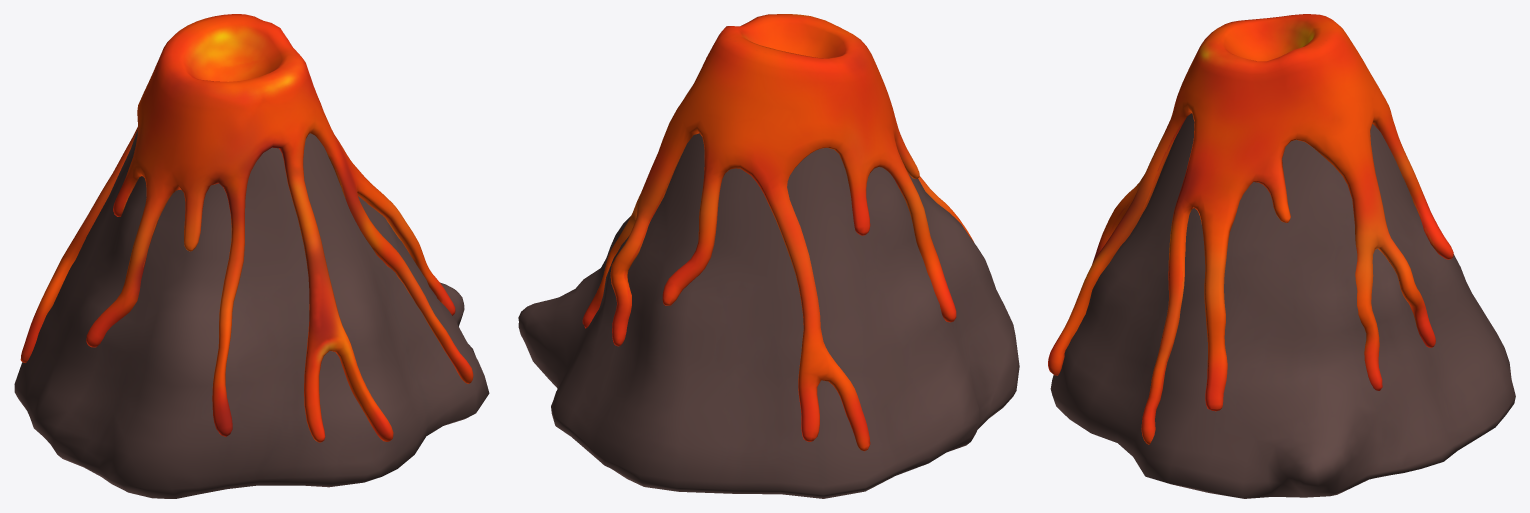
Rendered from volcano.glb.
3 views of the same model, side by side, from view 1: azimuth 30°, elevation 25°; view 2: azimuth 150°, elevation 25°; view 3: azimuth 270°, elevation 25° (orthographic).
Visible parts, largest first — view 1: node_id192; view 2: node_id192; view 3: node_id192.
Part boxes in pixels (x1,y1,x2,y2): node_id192: [14, 14, 489, 498]; node_id192: [518, 14, 1019, 498]; node_id192: [1048, 14, 1515, 498].
Size of the model in its own units: 0.6495 by 0.5379 by 0.6149.
Materials: 1 (1 with a texture image).
